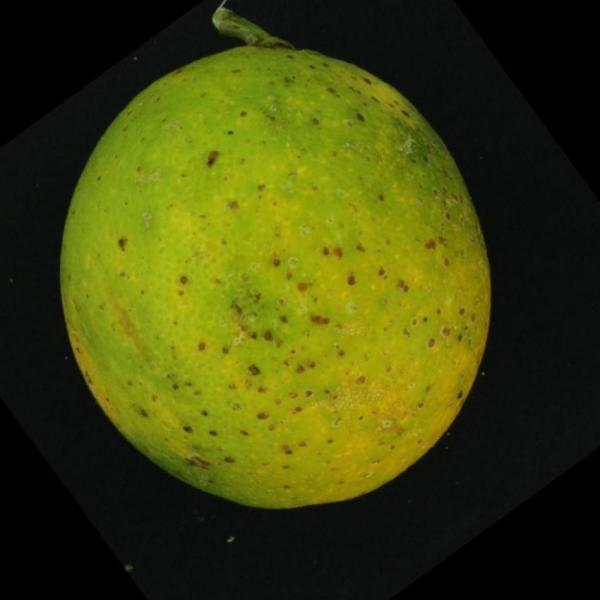Greening: (36, 31, 530, 524)
